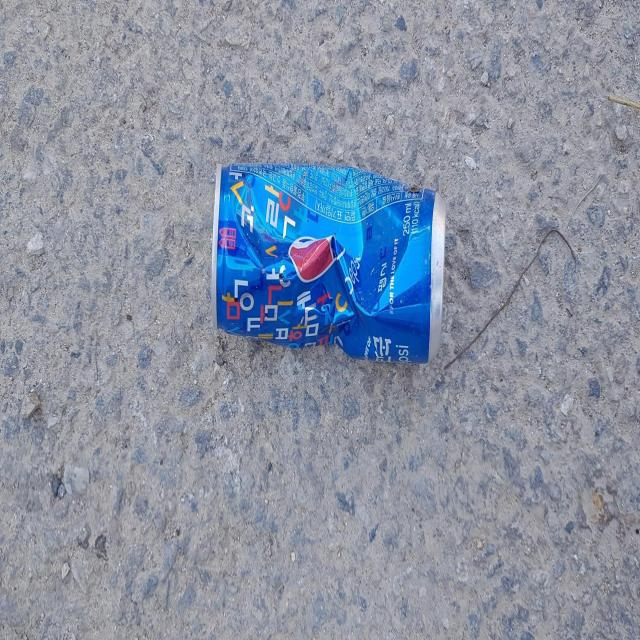can: (211, 162, 446, 362)
